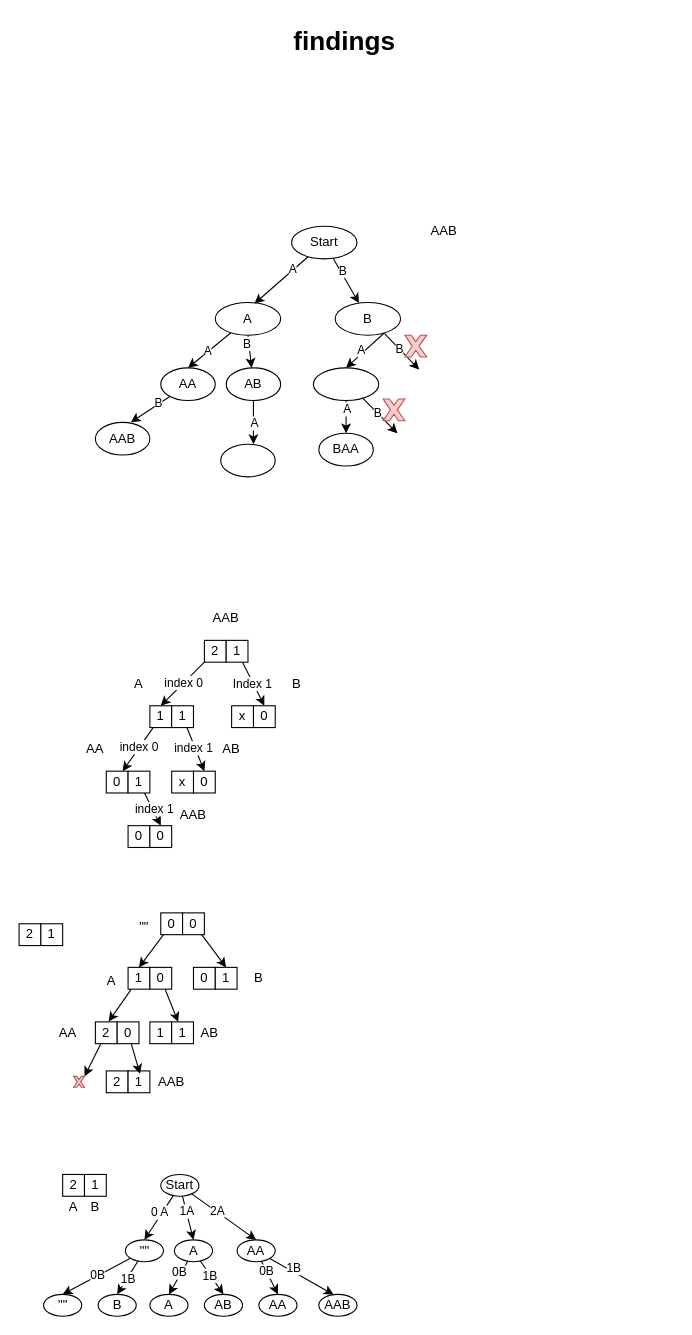
The diagram is 692 pixels wide and 1335 high, and some of its shapes have lost their labels. The shapes that lost their labels are listed below. From the top down, each one's centre as x and y in pixels, then its label:
At pixel 345 384: "BA".
At pixel 247 460: "ABA".
